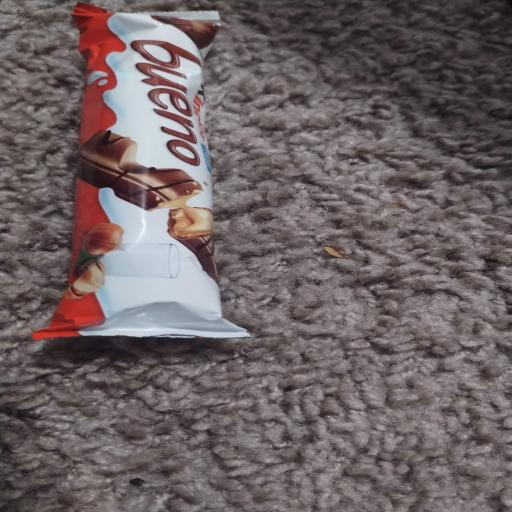chocolate: (34, 3, 249, 339)
